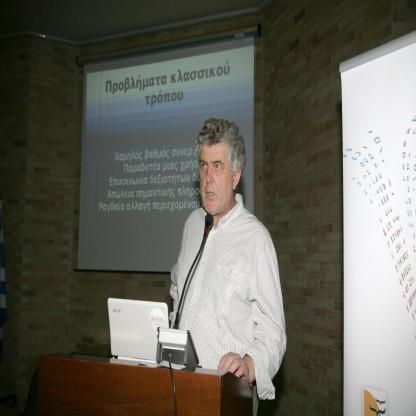board: (102, 300, 180, 368)
